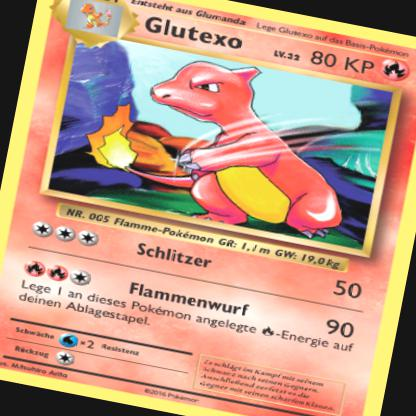Charmeleon: (93, 42, 373, 247)
